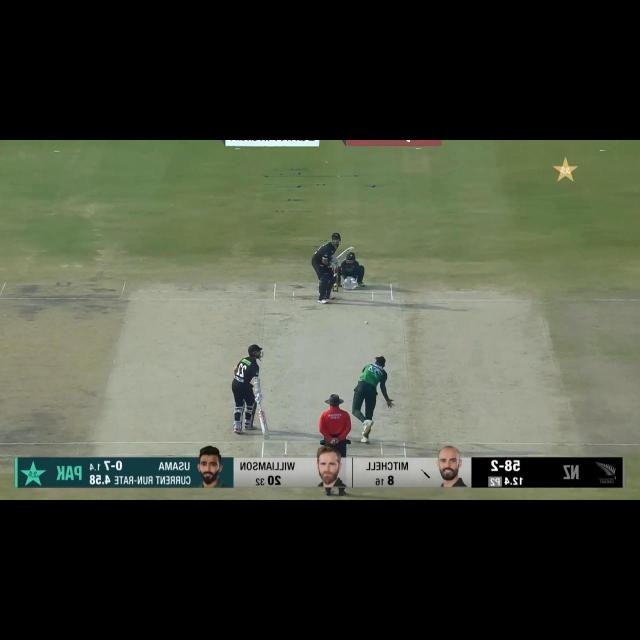bat: (258, 410, 270, 441), (337, 247, 354, 260)
toe: (264, 433, 270, 440), (345, 247, 353, 252)
